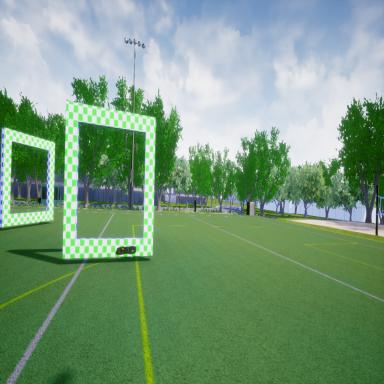gate: (63, 95, 156, 261), (0, 128, 55, 234)
